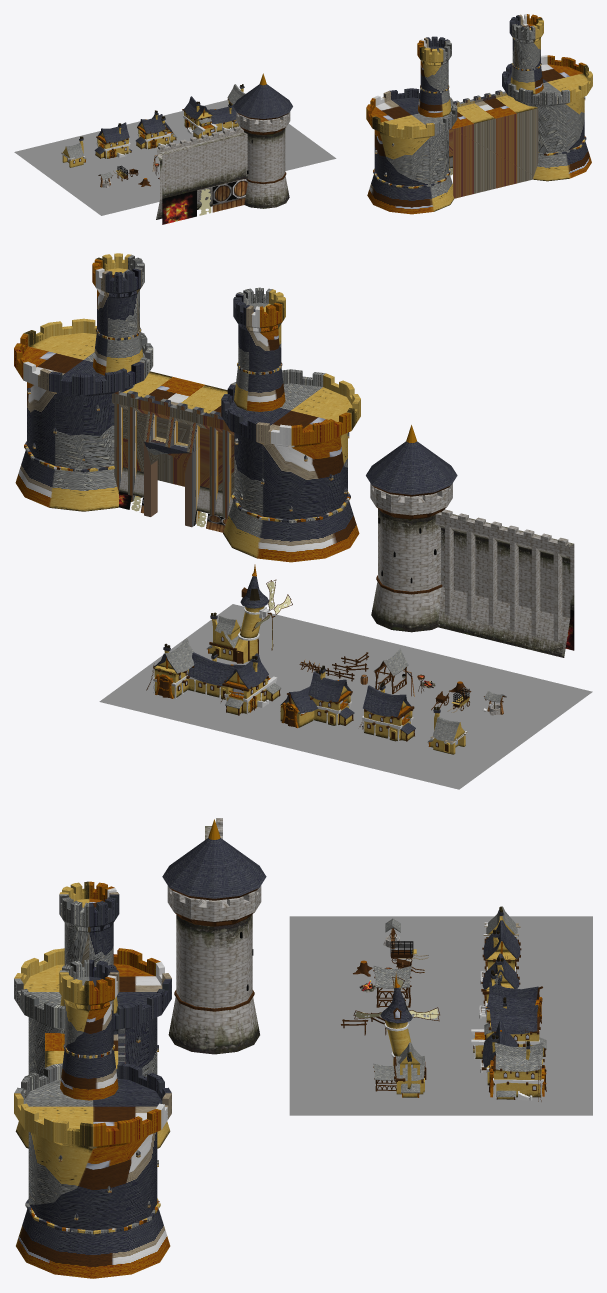
File: maison03.FBX
3 views of the same model, one above another, from view 1: azimuth 30°, elevation 25°; view 2: azimuth 150°, elevation 25°; view 3: azimuth 270°, elevation 25° (orthographic). The views are drawn at different scales.
Parts seen in each view (by area): view 1: tour003, tour004, sol, doorsgate, rempart, tour01, maison04, maison03, maison02, maison01; view 2: sol, tour003, tour004, rempart, doorsgate, tour01, maison04, maison03, moulin, maison02, maison01, cabane; view 3: sol, tour004, tour01, tour003, maison04, moulin, maison03, maison02, doorsgate, cabane.
Part boxes in pixels (box(x1,y1,x2,y2)): tour003: box(366, 36, 457, 214); tour004: box(502, 14, 592, 181); sol: box(14, 100, 336, 215); doorsgate: box(449, 90, 538, 198); rempart: box(156, 126, 247, 224); tour01: box(233, 73, 292, 208); maison04: box(182, 84, 245, 138); maison03: box(135, 110, 177, 149); maison02: box(94, 122, 131, 159); maison01: box(61, 136, 86, 167); sol: box(99, 604, 592, 789); tour003: box(221, 287, 360, 562); tour004: box(14, 253, 153, 511); rempart: box(435, 509, 574, 657); doorsgate: box(112, 371, 234, 532); tour01: box(366, 425, 457, 632); maison04: box(146, 638, 281, 715); maison03: box(280, 665, 354, 728); moulin: box(206, 564, 269, 663); maison02: box(359, 682, 415, 741); maison01: box(427, 706, 467, 754); cabane: box(373, 648, 408, 693); sol: box(289, 916, 592, 1115); tour004: box(14, 959, 171, 1278); tour01: box(162, 819, 266, 1054); tour003: box(14, 881, 171, 1148); maison04: box(471, 997, 546, 1101); moulin: box(373, 973, 426, 1097); maison03: box(479, 953, 542, 1023); maison02: box(480, 920, 521, 984); doorsgate: box(45, 1028, 125, 1069); cabane: box(373, 965, 412, 1007).
Bounding box in the file's own units: 93.77 × 31.2 × 63.19.
